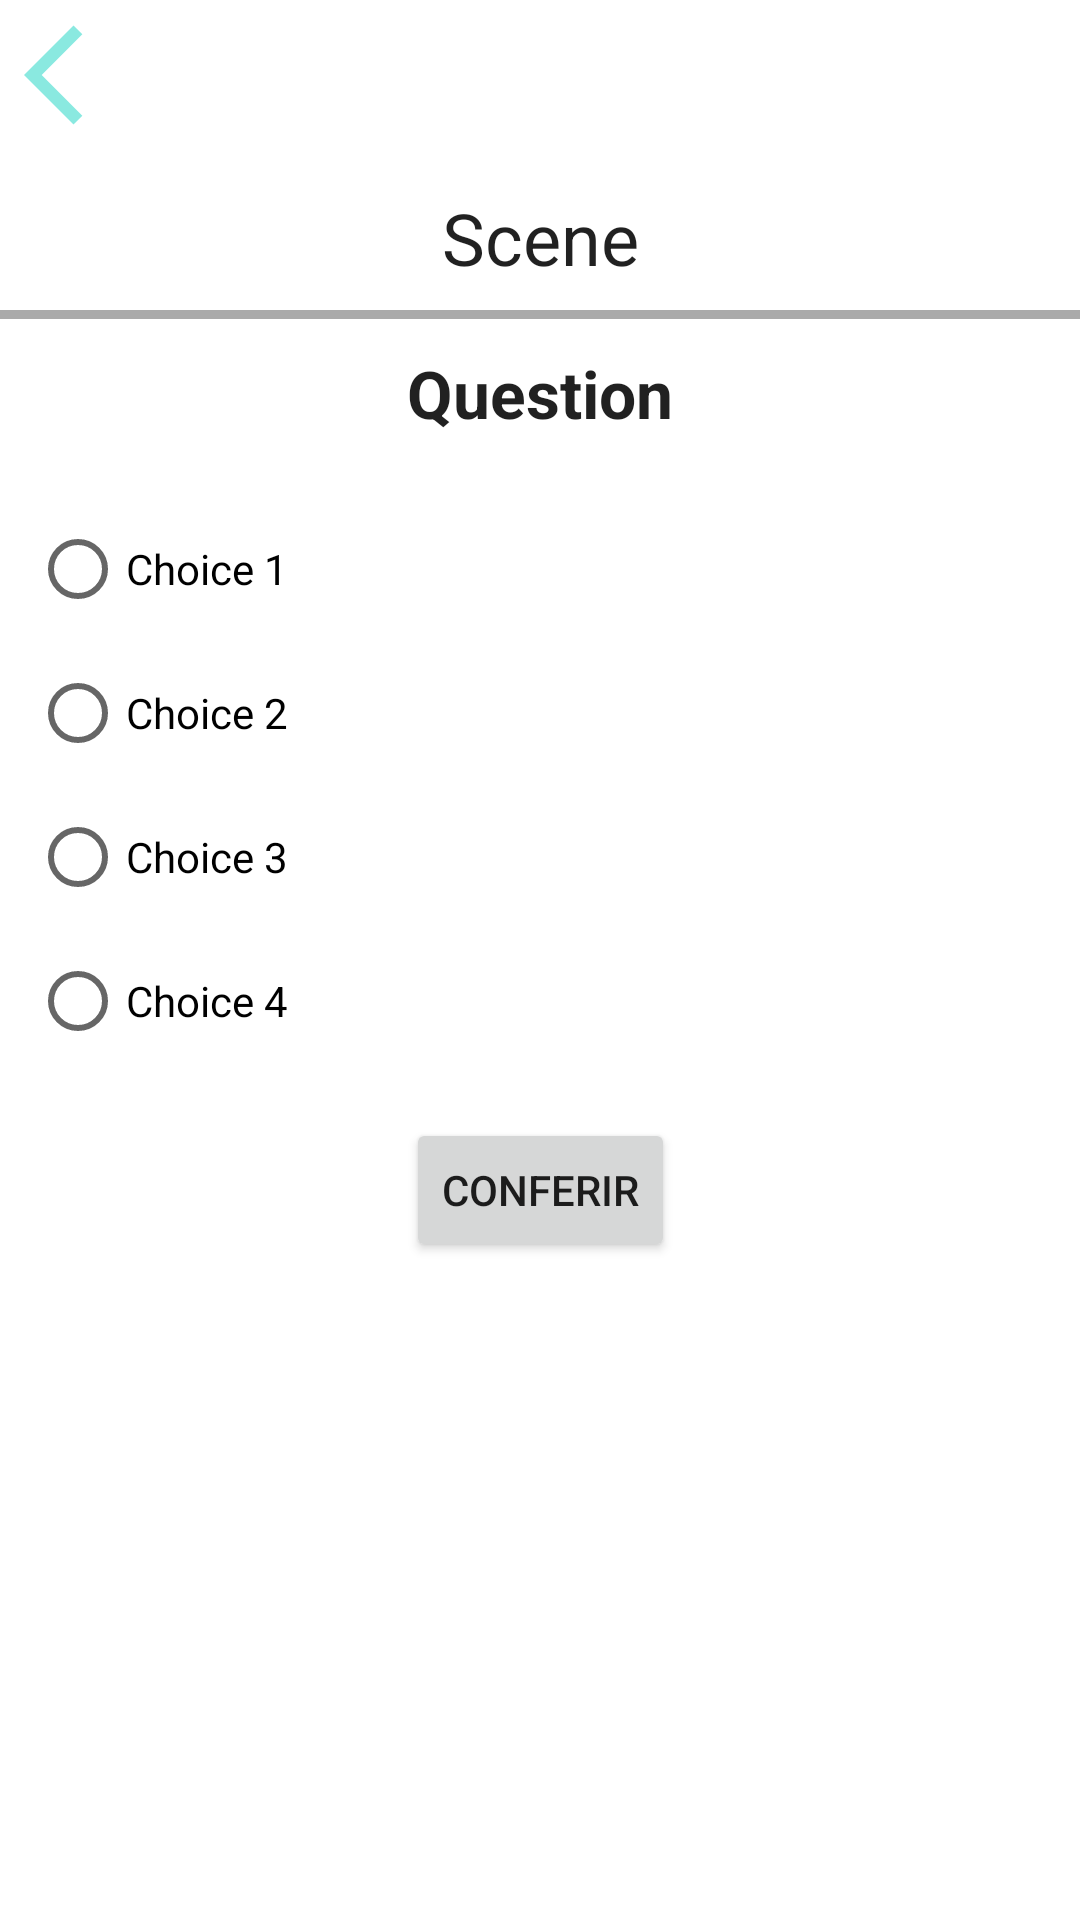

Icon bounding boxes for this 1080px x 1920px phone screenshot, format [left=x1, top=y1, right=x2, bottom=y2]:
getback: [left=24, top=25, right=82, bottom=125]
